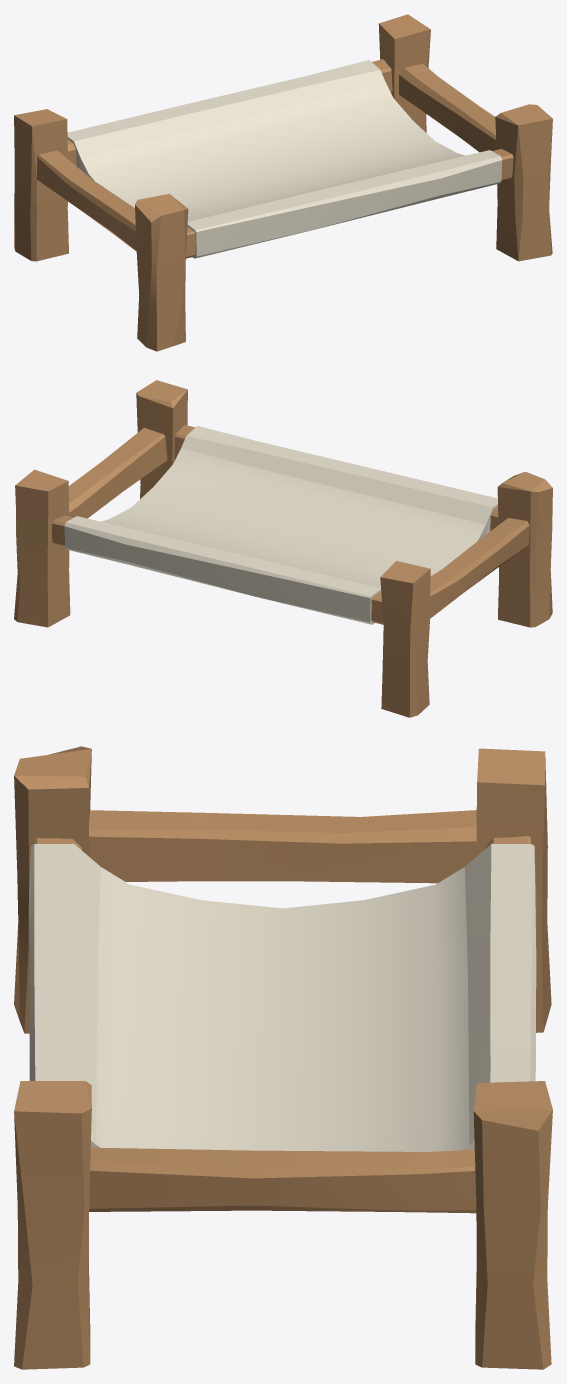
Rendered from Bed_A.fbx.
3 views of the same model, one above another, from view 1: azimuth 30°, elevation 25°; view 2: azimuth 150°, elevation 25°; view 3: azimuth 270°, elevation 25° (orthographic). The views are drawn at different scales.
Visible parts, largest first — view 1: Bed_A; view 2: Bed_A; view 3: Bed_A.
Boxes of the visible parts, x1,y1,x2,y2 form: Bed_A: (14, 14, 552, 351); Bed_A: (14, 380, 552, 717); Bed_A: (14, 746, 552, 1369).
Bounding box in the file's own units: 233 × 75.46 × 144.
